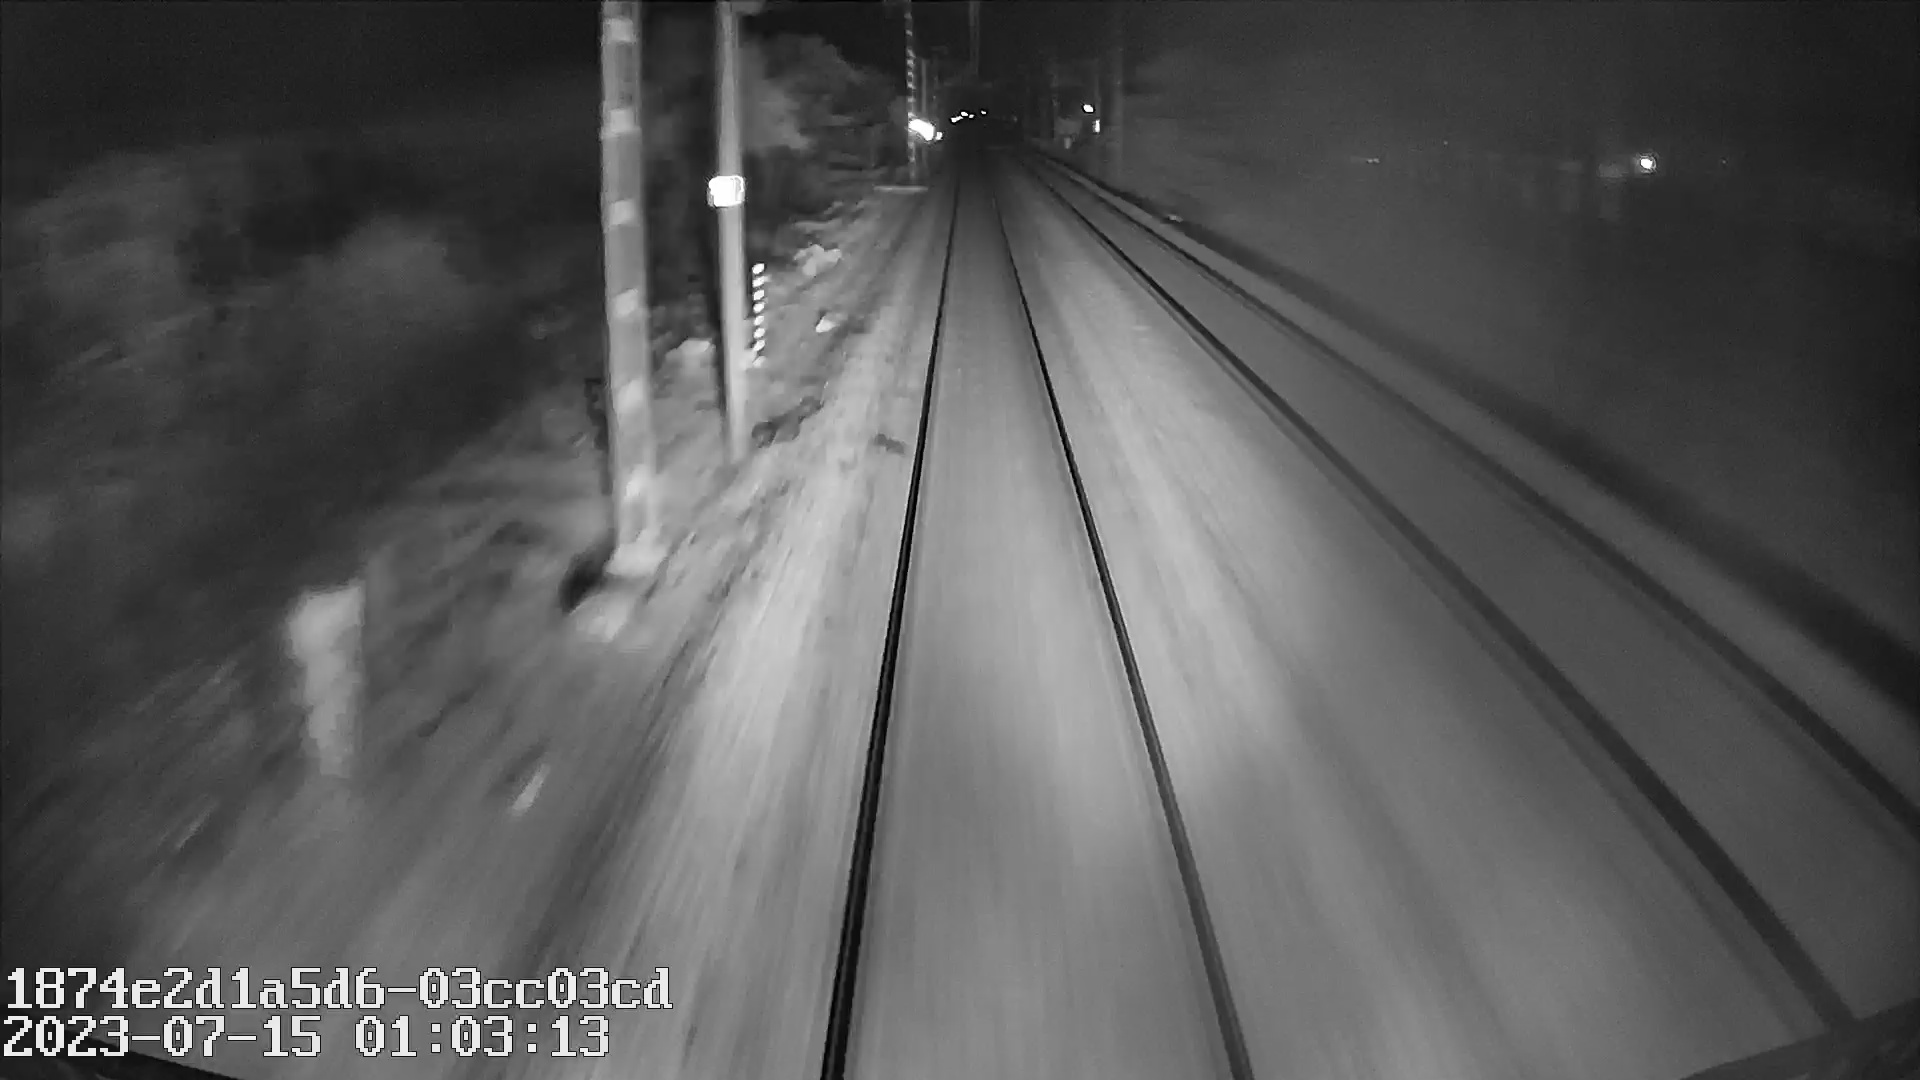track1: (833, 194, 1238, 1060)
track2: (1066, 194, 1907, 995)
